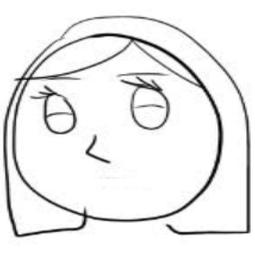eye: (126, 75, 171, 139), (27, 82, 79, 137)
eyebrow: (15, 72, 84, 84), (112, 69, 168, 78)
pointy_nose: (83, 131, 110, 168)
